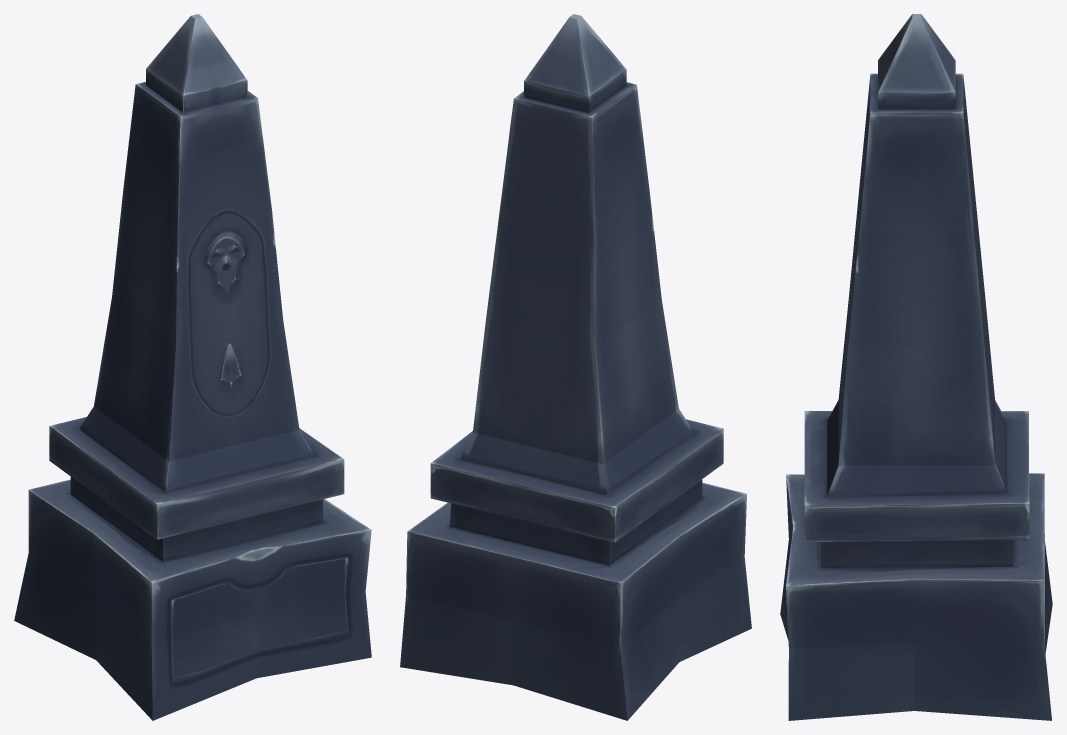
The model's file is gravestone2_2.fbx.
3 renders of one model, left to right at view 1: azimuth 30°, elevation 25°; view 2: azimuth 150°, elevation 25°; view 3: azimuth 270°, elevation 25°, orthographic. The views are drawn at different scales.
Parts seen in each view (by area): view 1: Cube.001; view 2: Cube.001; view 3: Cube.001.
Part boxes in pixels (x1,y1,x2,y2): Cube.001: [14, 14, 371, 720]; Cube.001: [400, 14, 751, 720]; Cube.001: [780, 14, 1052, 720].
Size of the model in its own units: 205 by 536 by 202.
